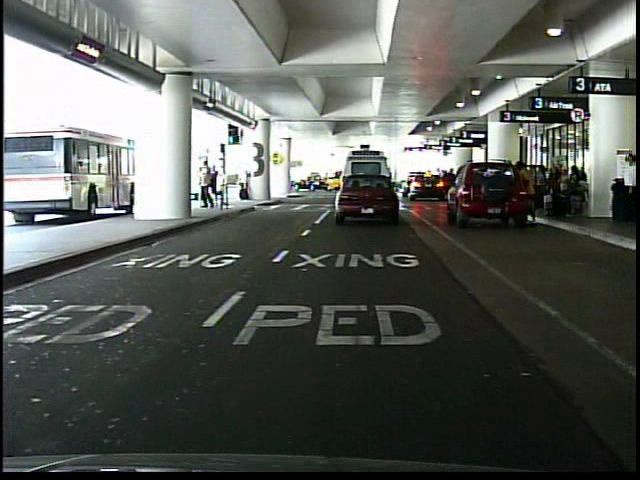person: (619, 148, 640, 226), (198, 155, 217, 212), (236, 166, 255, 203), (209, 163, 221, 211), (526, 159, 527, 223)
